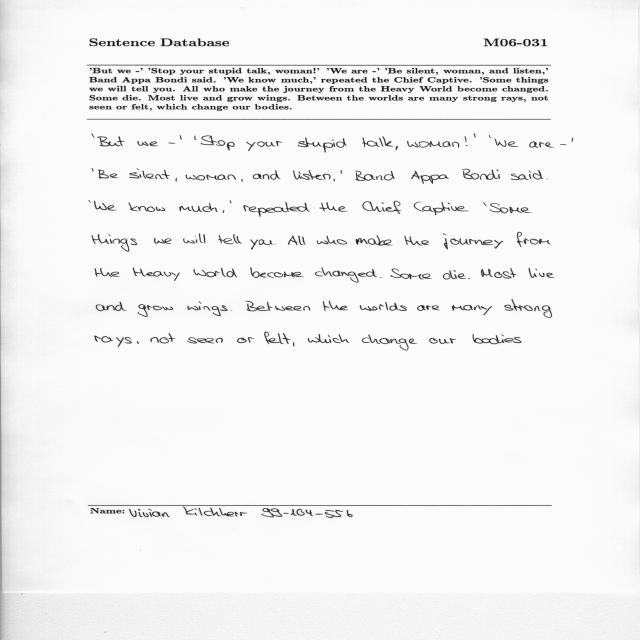word: (243, 202, 310, 217), (315, 267, 377, 283), (443, 234, 503, 250), (504, 299, 552, 318), (362, 335, 417, 351), (92, 234, 137, 252), (298, 138, 347, 153), (133, 267, 180, 281), (245, 301, 310, 311), (187, 302, 228, 317), (250, 267, 304, 278), (201, 136, 235, 151), (517, 232, 551, 247), (362, 201, 401, 214), (411, 171, 449, 184), (414, 202, 450, 215), (390, 269, 432, 280), (138, 304, 173, 317), (129, 168, 170, 179), (95, 335, 132, 347), (193, 268, 237, 278), (360, 302, 407, 311), (490, 203, 532, 213), (265, 332, 295, 346), (462, 169, 500, 180), (473, 334, 514, 344), (356, 235, 393, 246), (355, 171, 395, 181), (452, 305, 492, 315), (481, 268, 517, 279), (246, 141, 283, 151), (293, 170, 330, 180), (407, 141, 459, 148), (129, 202, 165, 212), (179, 203, 218, 212), (362, 137, 393, 148), (511, 170, 543, 180), (186, 175, 236, 181), (97, 137, 125, 147), (320, 202, 348, 212), (253, 170, 280, 180), (317, 236, 347, 245), (96, 302, 126, 311), (529, 268, 555, 278), (150, 333, 176, 343), (187, 337, 223, 344), (323, 301, 348, 311), (251, 239, 273, 250), (218, 234, 242, 244), (405, 236, 429, 246), (94, 201, 117, 211), (443, 270, 466, 280), (95, 268, 120, 277), (183, 234, 205, 244), (495, 138, 519, 147), (308, 334, 331, 343), (328, 334, 349, 343), (98, 170, 118, 179), (288, 236, 306, 246), (529, 141, 554, 148), (429, 338, 456, 344), (417, 305, 440, 311), (451, 206, 469, 212), (154, 238, 172, 244), (137, 141, 158, 146), (237, 337, 254, 343), (513, 337, 521, 343), (465, 136, 468, 146), (483, 203, 487, 207), (92, 133, 95, 138), (194, 136, 197, 140), (180, 135, 182, 140), (474, 133, 476, 138), (489, 135, 492, 138), (396, 146, 398, 150), (572, 138, 574, 142), (341, 170, 343, 174), (169, 143, 176, 144), (560, 144, 567, 145), (92, 169, 94, 172), (241, 179, 243, 182), (333, 179, 335, 182), (230, 201, 232, 204), (137, 341, 139, 344), (176, 178, 177, 182), (89, 201, 91, 203), (223, 210, 224, 213), (380, 277, 382, 278), (468, 278, 470, 279), (231, 310, 232, 311), (546, 179, 548, 179), (274, 244, 276, 244)
